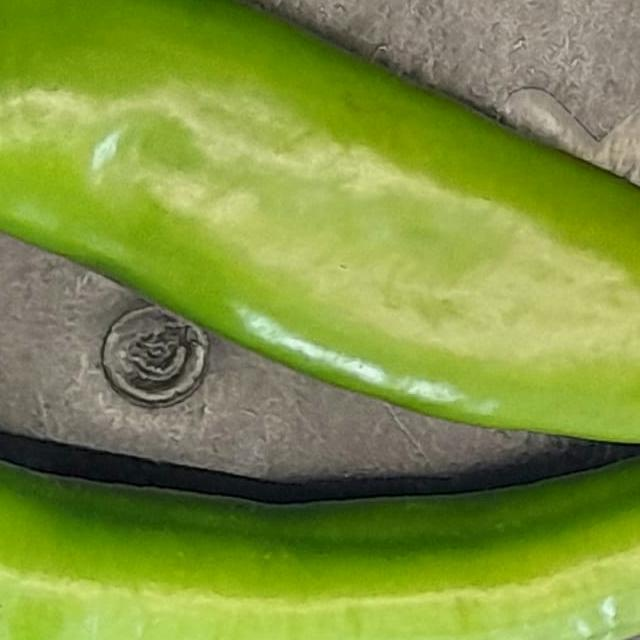chili_pepper: (0, 0, 640, 492), (0, 207, 640, 640)
